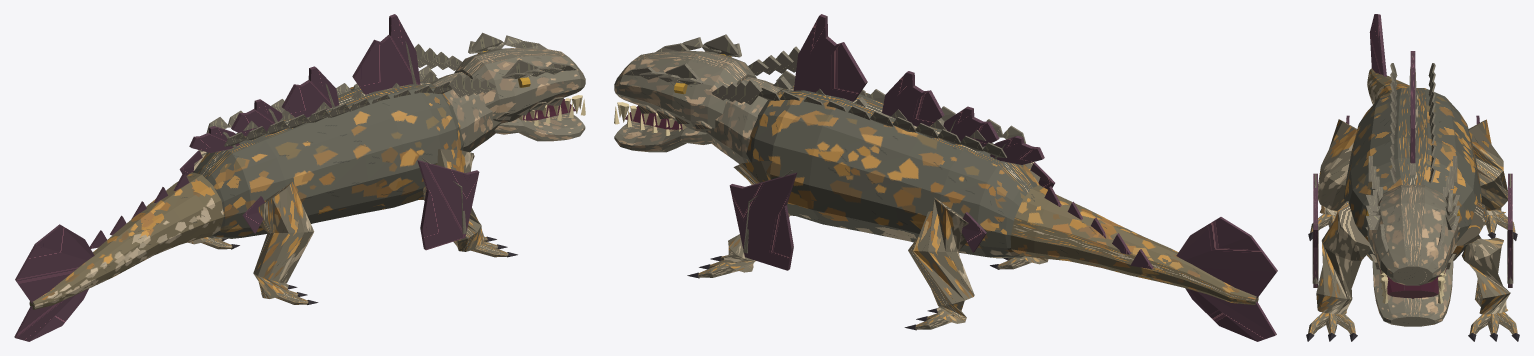
File: fulgaronte_v02_blockout_reconstruido.glb
3 views of the same model, side by side, from view 1: azimuth 30°, elevation 25°; view 2: azimuth 150°, elevation 25°; view 3: azimuth 270°, elevation 25° (orthographic). The views are drawn at different scales.
Parts seen in each view (by area): view 1: Fulgaronte_v02_anatomia; view 2: Fulgaronte_v02_anatomia; view 3: Fulgaronte_v02_anatomia.
Boxes of the visible parts, <box> form: Fulgaronte_v02_anatomia: <box>14,14,585,341</box>; Fulgaronte_v02_anatomia: <box>614,14,1277,341</box>; Fulgaronte_v02_anatomia: <box>1306,14,1519,341</box>.
Size of the model in its own units: 16.52 by 6.02 by 5.08.
Materials: 1 (1 with a texture image).
